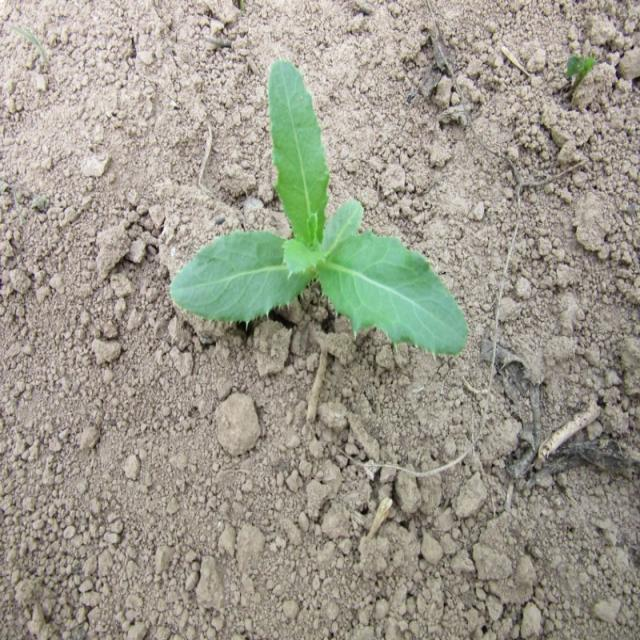cs: (166, 55, 474, 364)
